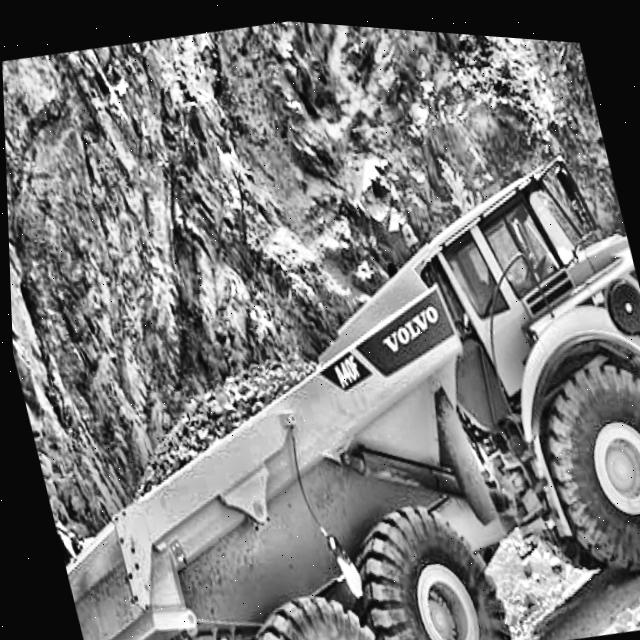dump_truck: (3, 94, 640, 640)
